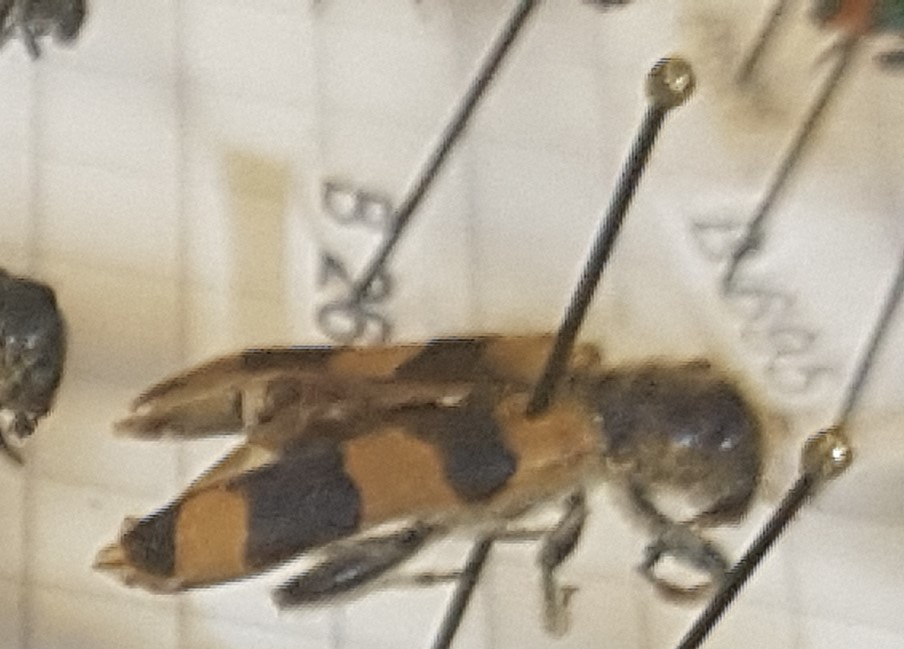trichodes_crabroniformis: (85, 312, 771, 621)
